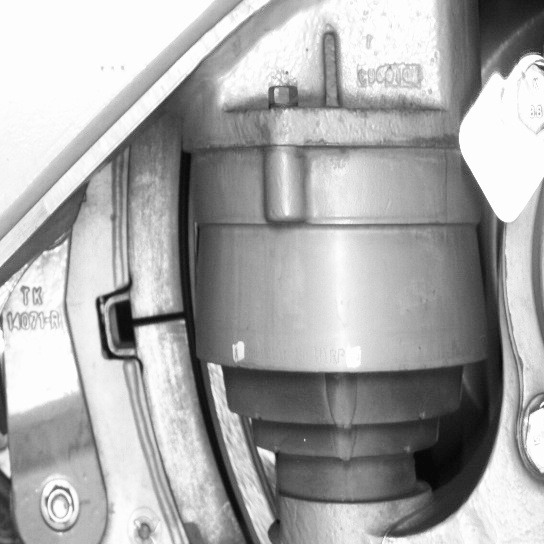KnifeSwitch: (131, 146, 263, 542)
